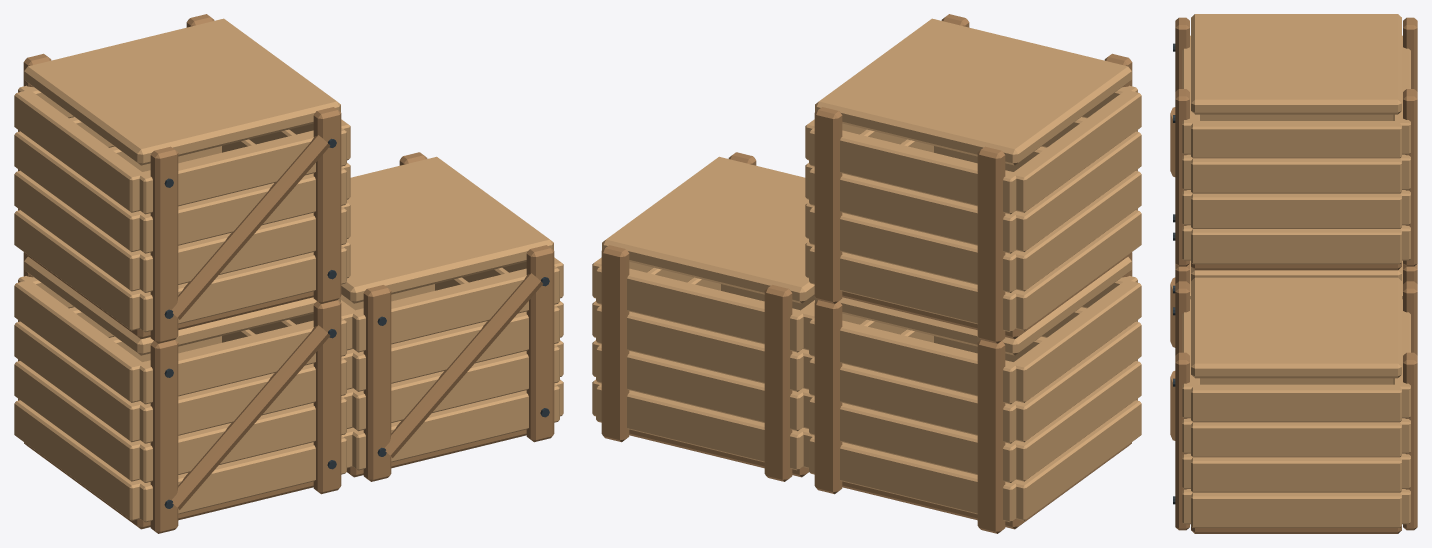
File: Crate_Stack.glb
3 renders of one model, left to right at view 1: azimuth 30°, elevation 25°; view 2: azimuth 150°, elevation 25°; view 3: azimuth 270°, elevation 25°, orthographic. The views are drawn at different scales.
Visible parts, largest first — view 1: Crate_Stack; view 2: Crate_Stack; view 3: Crate_Stack.
Boxes of the visible parts, x1,y1,x2,y2 form: Crate_Stack: [14, 14, 563, 533]; Crate_Stack: [592, 14, 1141, 533]; Crate_Stack: [1170, 14, 1417, 533].
Bounding box in the file's own units: 1.38 × 1.16 × 0.7625.
